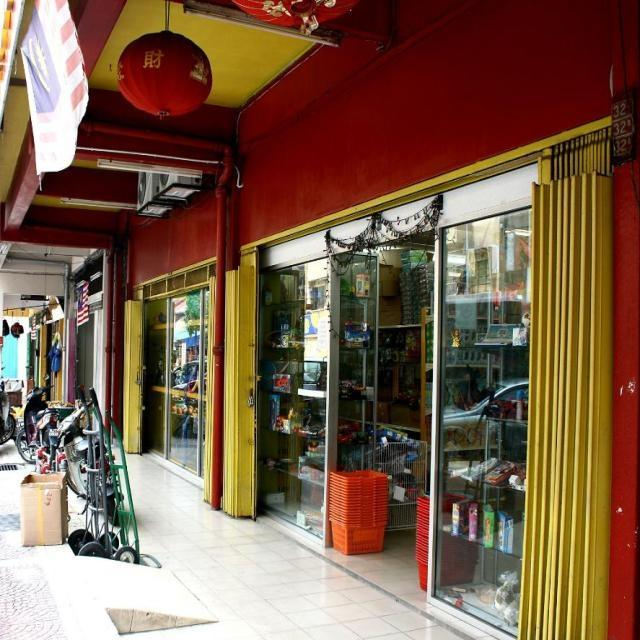door: (263, 182, 546, 630)
